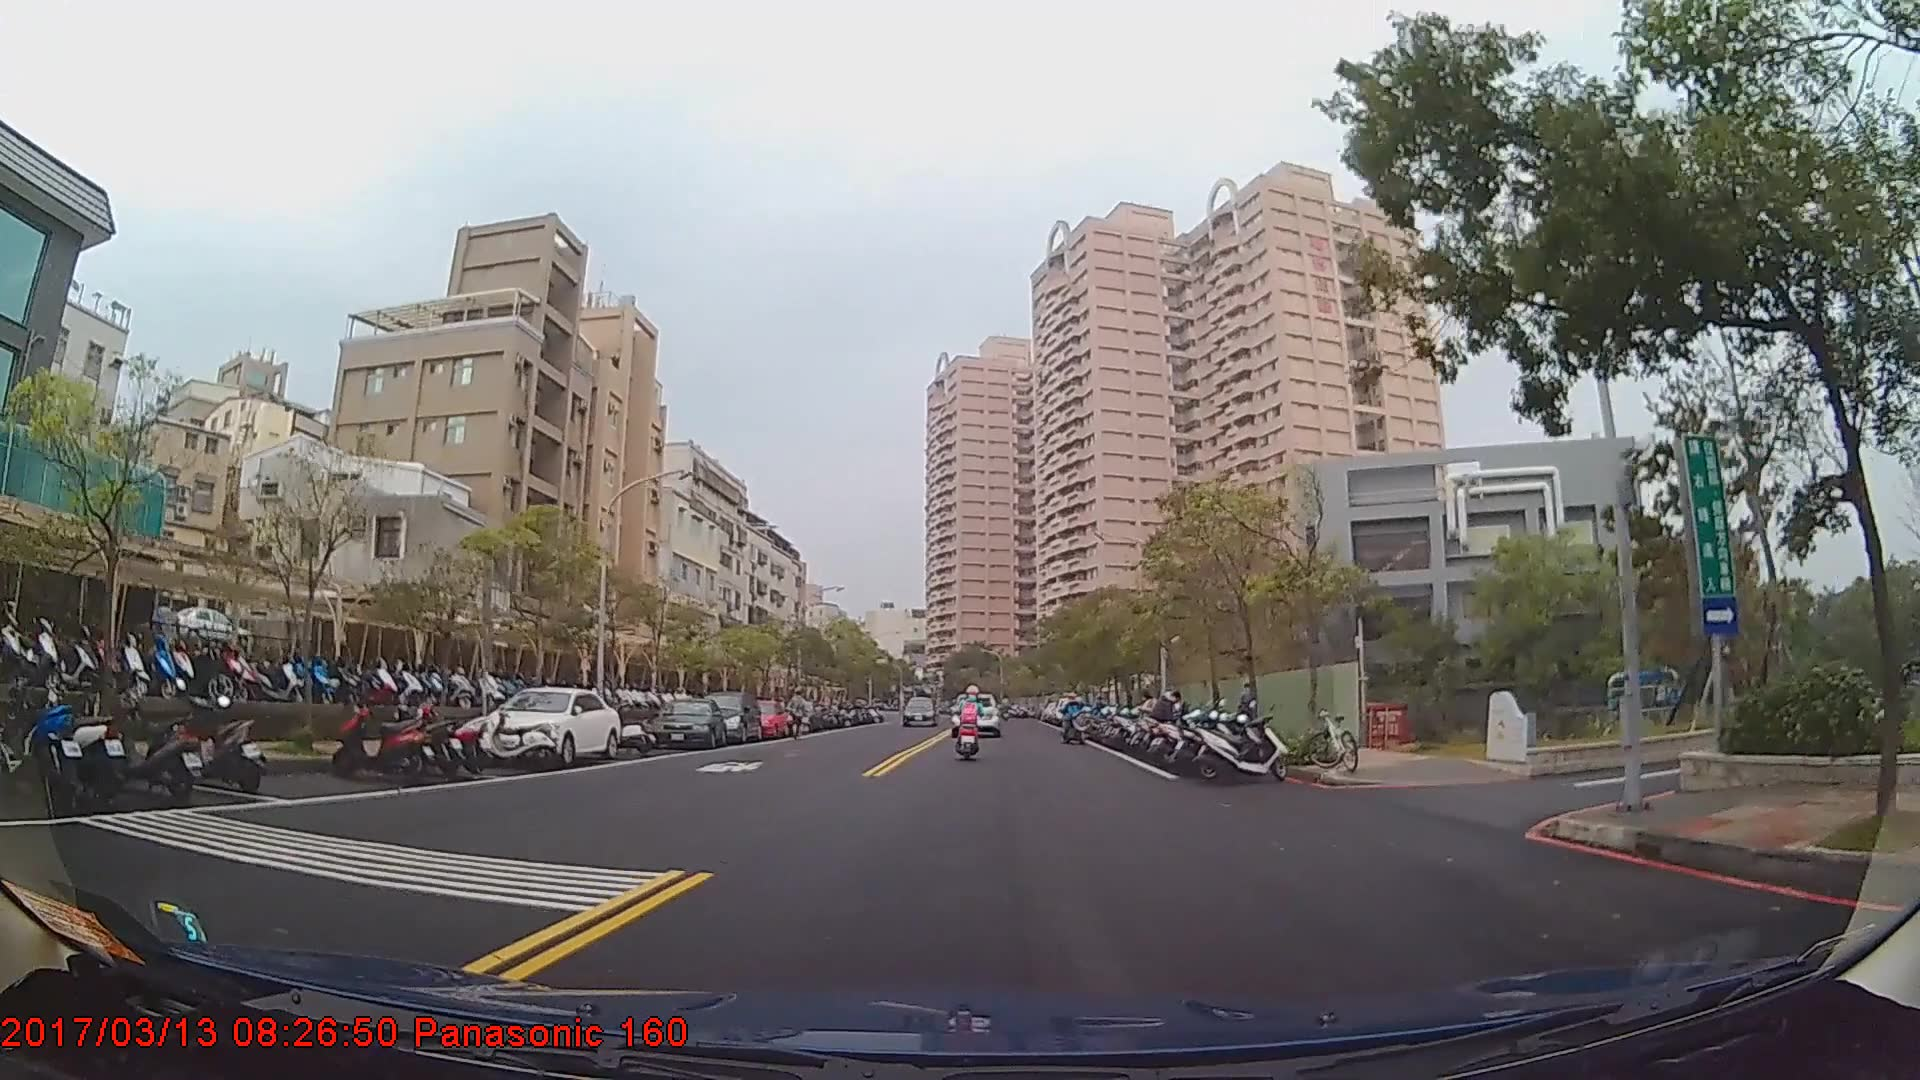pedestrian: (1150, 689, 1185, 750), (787, 690, 813, 743), (1237, 680, 1262, 734)
rider: (956, 685, 986, 756), (1062, 690, 1086, 742)
vehicle: (484, 686, 621, 765), (649, 696, 726, 749), (697, 689, 761, 742), (949, 688, 1000, 733), (739, 697, 790, 741), (902, 697, 934, 724)
